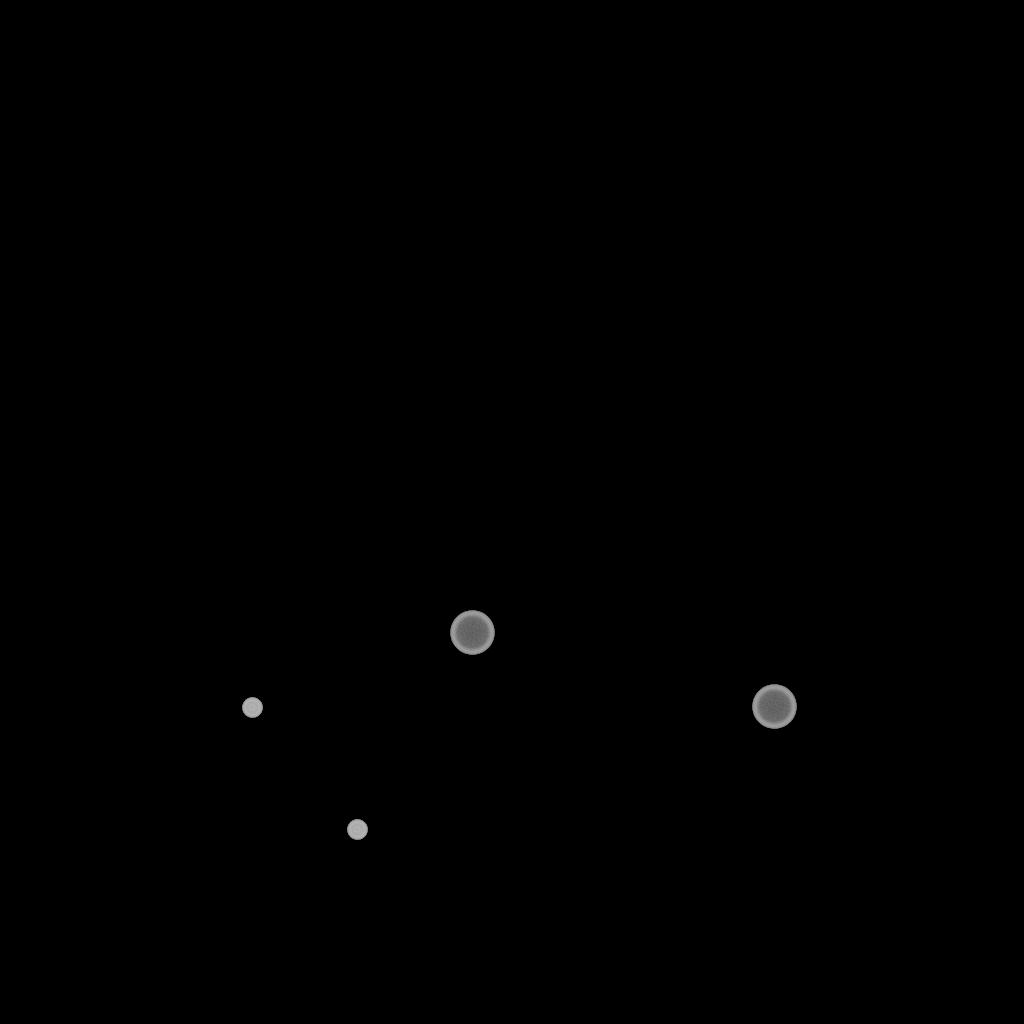depth:-40: (347, 820, 367, 840), (242, 698, 262, 718)
depth:-70: (450, 611, 494, 655), (752, 685, 796, 729)
